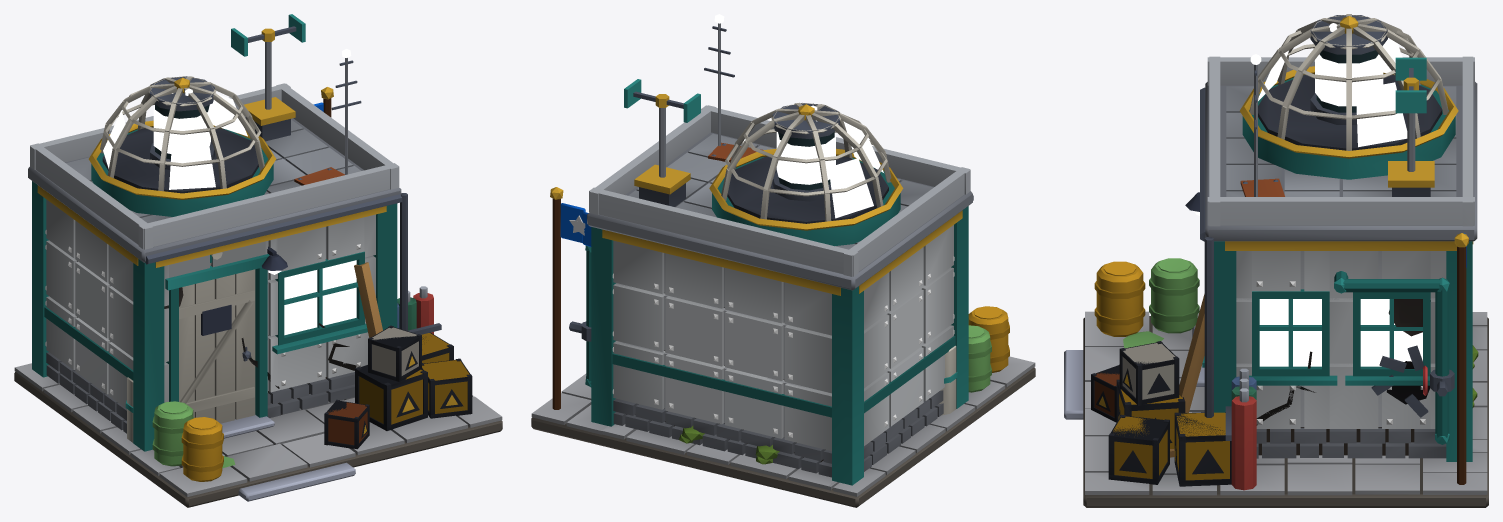
File: b_labor.glb
3 renders of one model, left to right at view 1: azimuth 30°, elevation 25°; view 2: azimuth 150°, elevation 25°; view 3: azimuth 270°, elevation 25°, orthographic. The views are drawn at different scales.
Parts seen in each view (by area): view 1: body, lv4_haus, lv4_ausbau, win_glow, kuppel_glow, dmg2_bruch, pulse_tank_glow, spin_antenne; view 2: body, lv4_haus, lv4_ausbau, kuppel_glow, pulse_tank_glow, spin_antenne, sway_flag, lvmax3_haus; view 3: body, lv4_haus, lv4_ausbau, win_glow, dmg2_bruch, kuppel_glow, pulse_tank_glow, spin_antenne, dmg1_spuren, lvmax3_haus.
Part boxes in pixels (bbox=[...]): body: bbox=[14, 42, 502, 507]; lv4_haus: bbox=[32, 181, 397, 451]; lv4_ausbau: bbox=[88, 87, 453, 442]; win_glow: bbox=[284, 260, 356, 335]; kuppel_glow: bbox=[103, 94, 247, 189]; dmg2_bruch: bbox=[324, 262, 382, 449]; pulse_tank_glow: bbox=[153, 88, 210, 153]; spin_antenne: bbox=[231, 14, 305, 56]; body: bbox=[531, 23, 1035, 507]; lv4_haus: bbox=[591, 206, 968, 485]; lv4_ausbau: bbox=[550, 148, 957, 415]; kuppel_glow: bbox=[742, 121, 883, 218]; pulse_tank_glow: bbox=[776, 105, 835, 184]; spin_antenne: bbox=[624, 79, 700, 122]; sway_flag: bbox=[560, 203, 591, 246]; lvmax3_haus: bbox=[615, 253, 924, 437]; body: bbox=[1064, 14, 1488, 507]; lv4_haus: bbox=[1214, 241, 1473, 461]; lv4_ausbau: bbox=[1174, 66, 1468, 486]; win_glow: bbox=[1259, 299, 1422, 366]; dmg2_bruch: bbox=[1091, 294, 1429, 457]; kuppel_glow: bbox=[1258, 38, 1407, 147]; pulse_tank_glow: bbox=[1315, 23, 1383, 106]; spin_antenne: bbox=[1395, 57, 1426, 113]; dmg1_spuren: bbox=[1256, 299, 1430, 425]; lvmax3_haus: bbox=[1236, 251, 1435, 426].
Size of the model in its own units: 5.5 by 5.79 by 5.47.
